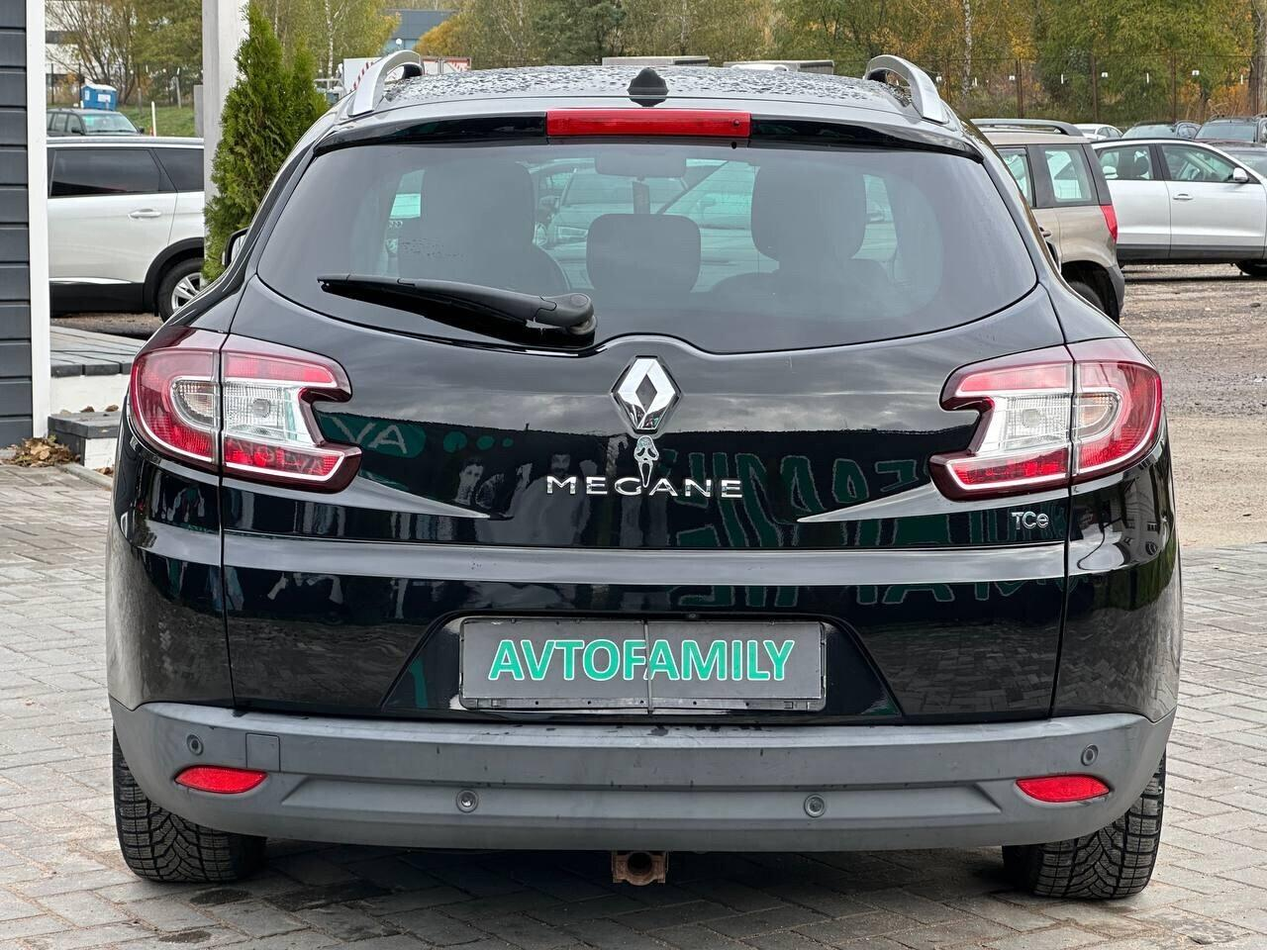Megane_2012-2014: (103, 54, 1178, 905)
